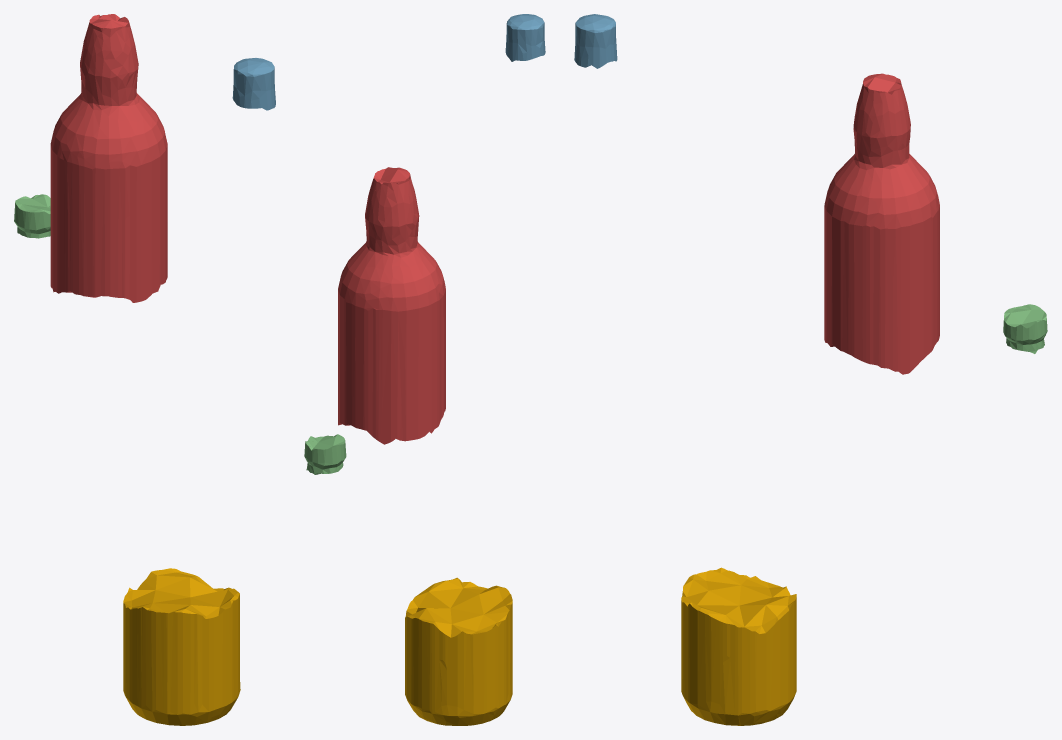
The model's file is fractured_5_4pcs_transformed.glb.
3 views of the same model, side by side, from view 1: azimuth 30°, elevation 25°; view 2: azimuth 150°, elevation 25°; view 3: azimuth 270°, elevation 25° (orthographic). The views are drawn at different scales.
Visible parts, largest first — view 1: piece_1.obj, piece_0.obj, piece_2.obj, piece_3.obj; view 2: piece_1.obj, piece_0.obj, piece_2.obj, piece_3.obj; view 3: piece_1.obj, piece_0.obj, piece_2.obj, piece_3.obj.
Boxes of the visible parts, x1=… form: piece_1.obj: x1=50, y1=14, x2=167, y2=302; piece_0.obj: x1=123, y1=568, x2=240, y2=725; piece_2.obj: x1=232, y1=58, x2=275, y2=110; piece_3.obj: x1=14, y1=194, x2=50, y2=238; piece_1.obj: x1=338, y1=167, x2=445, y2=444; piece_0.obj: x1=405, y1=577, x2=512, y2=725; piece_2.obj: x1=505, y1=14, x2=545, y2=61; piece_3.obj: x1=304, y1=434, x2=346, y2=474; piece_1.obj: x1=824, y1=73, x2=939, y2=374; piece_0.obj: x1=681, y1=567, x2=796, y2=725; piece_2.obj: x1=574, y1=14, x2=617, y2=68; piece_3.obj: x1=1003, y1=304, x2=1047, y2=353.
Size of the model in its own units: 0.242 by 1.6 by 0.9915.
